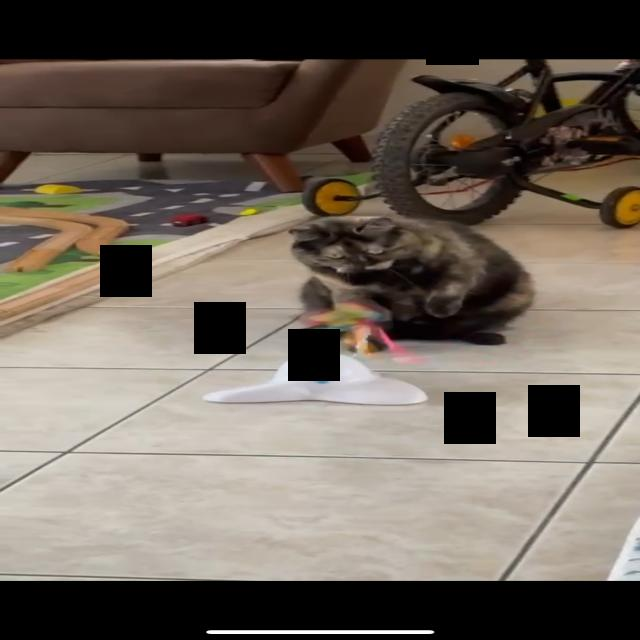authorized: (287, 214, 535, 346)
